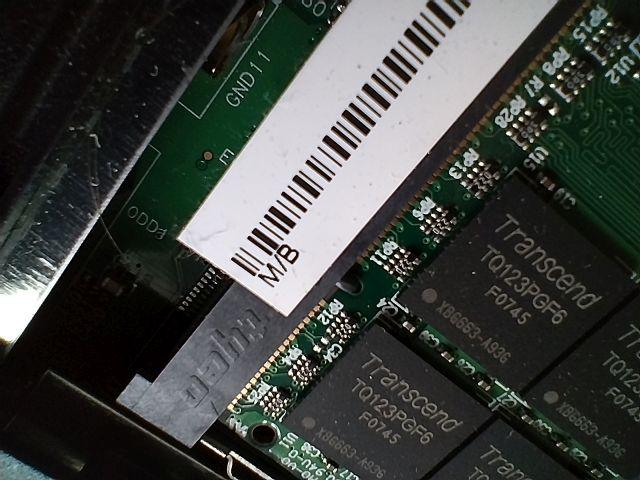resistor: (502, 97, 553, 166), (460, 157, 497, 193), (420, 208, 461, 237), (382, 244, 416, 277)
